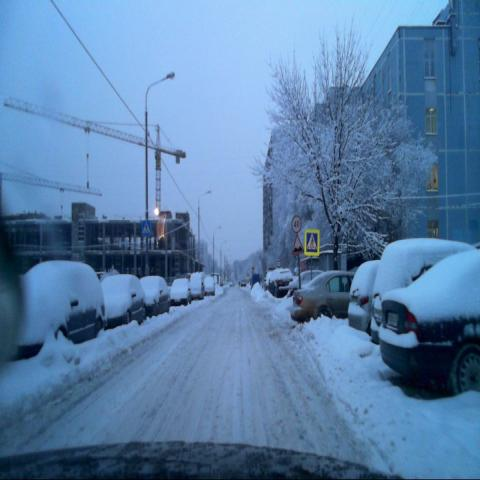1_16: (291, 234, 303, 254)
